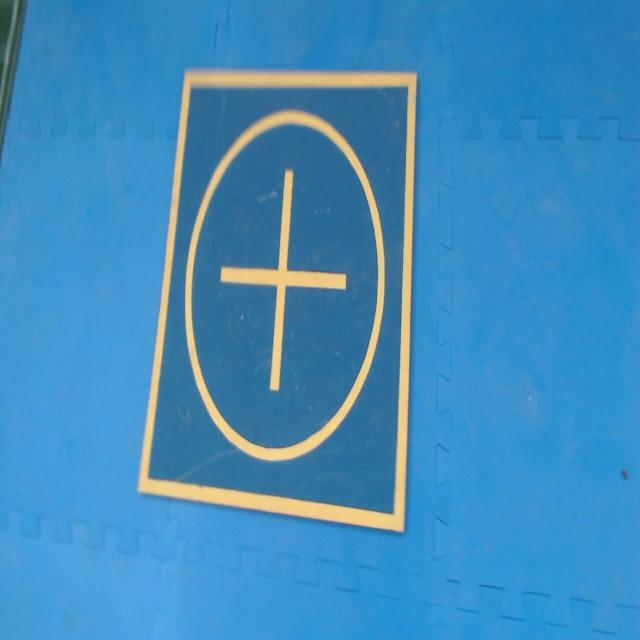base_pouso: (135, 66, 420, 539)
